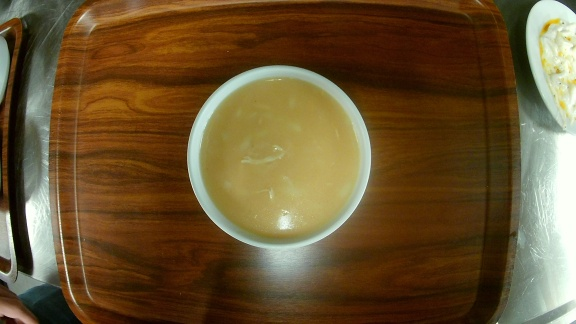tavukcorba: (186, 65, 374, 249)
